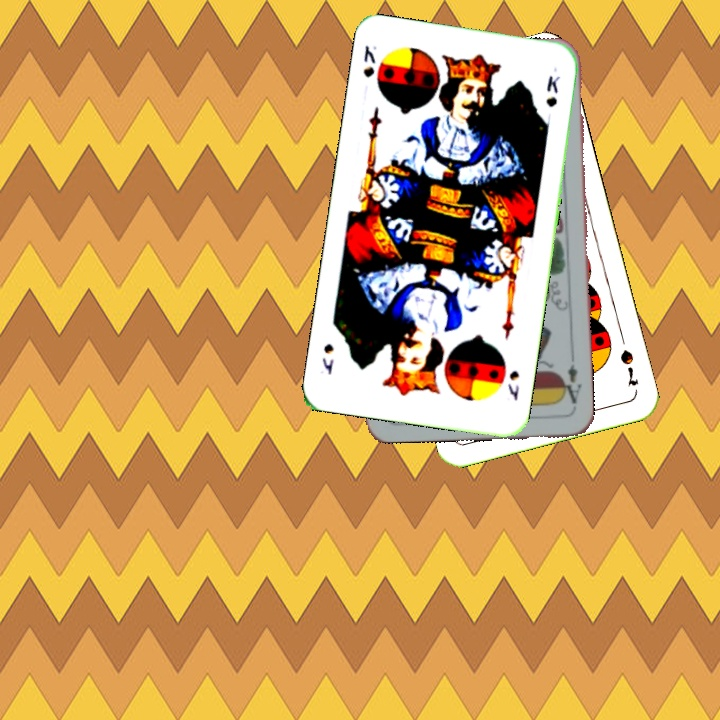EA: (557, 352, 584, 411)
S7: (616, 345, 641, 389)
SK: (359, 41, 379, 80), (504, 366, 522, 403)
